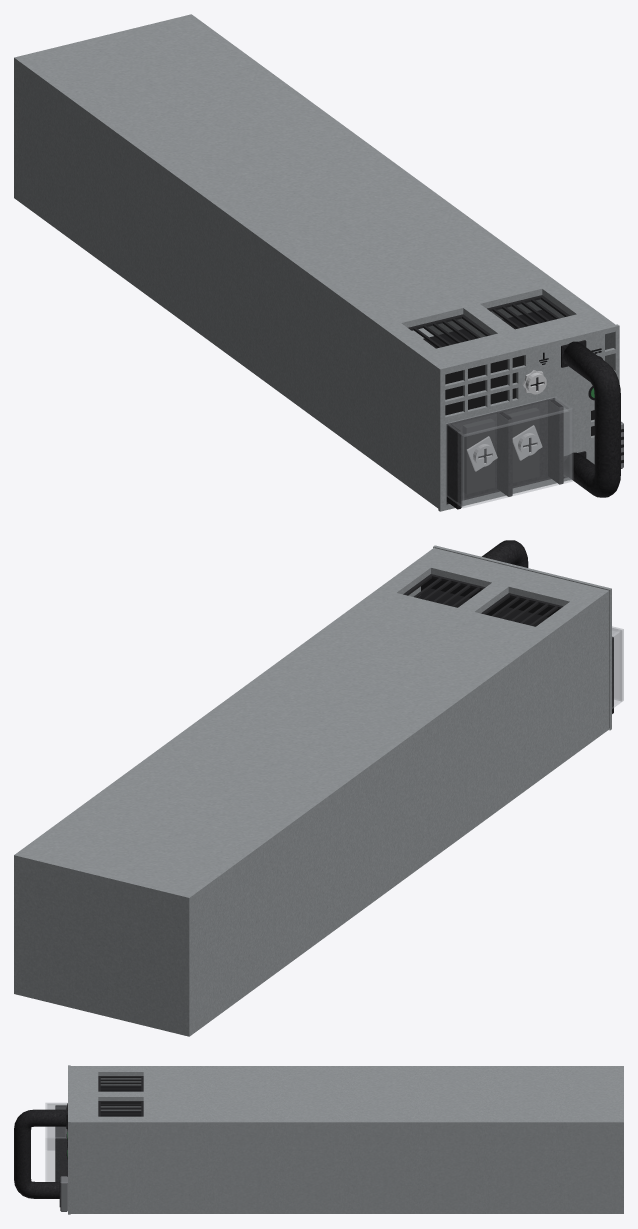
The model's file is PA-3200-PSU-650W-DC.glb.
3 renders of one model, top to bottom at view 1: azimuth 30°, elevation 25°; view 2: azimuth 150°, elevation 25°; view 3: azimuth 270°, elevation 25°, orthographic. The views are drawn at different scales.
Parts seen in each view (by area): view 1: PSU, DC_Cover; view 2: PSU, DC_Cover; view 3: PSU, DC_Cover.
Boxes of the visible parts, x1=… form: PSU: x1=14, y1=14, x2=623, y2=511; DC_Cover: x1=446, y1=396, x2=573, y2=507; PSU: x1=14, y1=540, x2=613, y2=1036; DC_Cover: x1=612, y1=626, x2=623, y2=708; PSU: x1=14, y1=1065, x2=623, y2=1214; DC_Cover: x1=45, y1=1103, x2=67, y2=1181.
Size of the model in its own units: 0.0534 by 0.0405 by 0.2417.
Materials: 10 (2 with a texture image).
